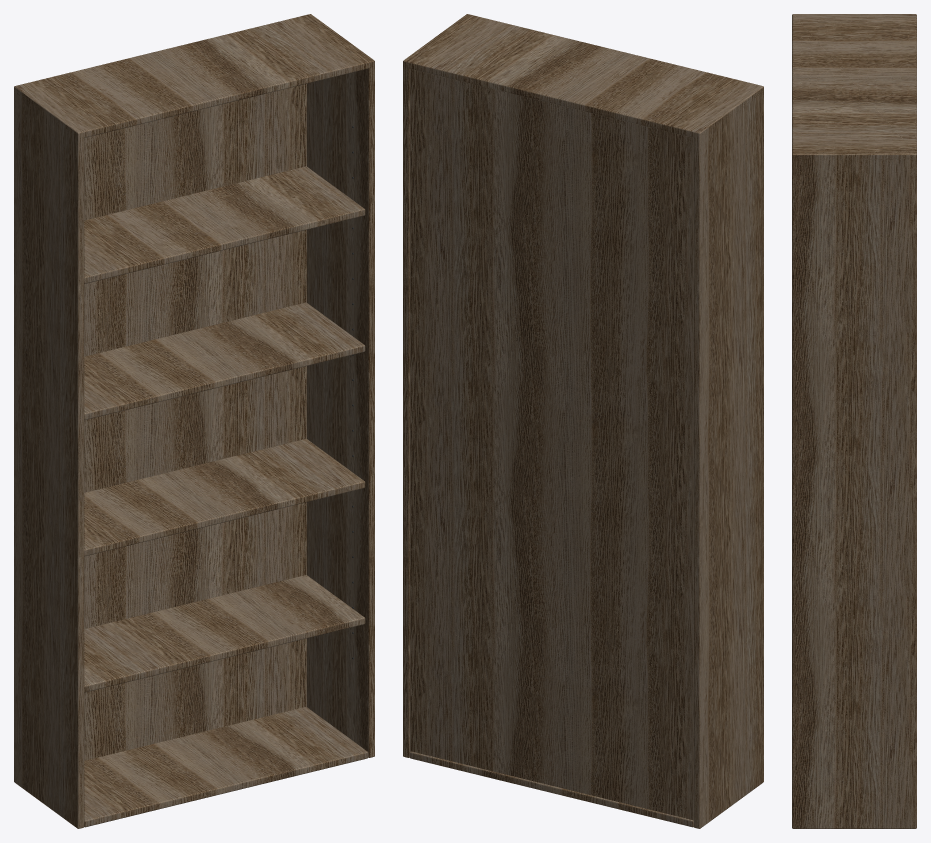
File: detail-bookcase.glb
The picture shows the model from 3 angles, left to right: view 1: azimuth 30°, elevation 25°; view 2: azimuth 150°, elevation 25°; view 3: azimuth 270°, elevation 25°; orthographic projection. The views are drawn at different scales.
Visible parts, largest first — view 1: 嵌入式背板, 左侧板, 右侧板, 顶板, 底板, 可调层板, 可调层板.003, 可调层板.001, 可调层板.002; view 2: 嵌入式背板, 左侧板, 顶板, 右侧板, 底板; view 3: 右侧板, 顶板.
Boxes of the visible parts, x1,y1,x2,y2 form: 嵌入式背板: (84,84,306,760); 左侧板: (14,87,84,828); 右侧板: (307,61,374,757); 顶板: (14,14,374,137); 底板: (84,707,368,827); 可调层板: (84,575,365,692); 可调层板.003: (84,166,365,283); 可调层板.001: (84,438,365,556); 可调层板.002: (84,302,365,420); 嵌入式背板: (410,69,693,820); 左侧板: (693,88,763,828); 顶板: (403,14,763,138); 右侧板: (403,61,409,757); 底板: (409,751,693,827); 右侧板: (792,151,916,828); 顶板: (792,14,916,159).
Bounding box in the file's own units: 0.8 × 1.79 × 0.3.
3 materials, 1 textured.
